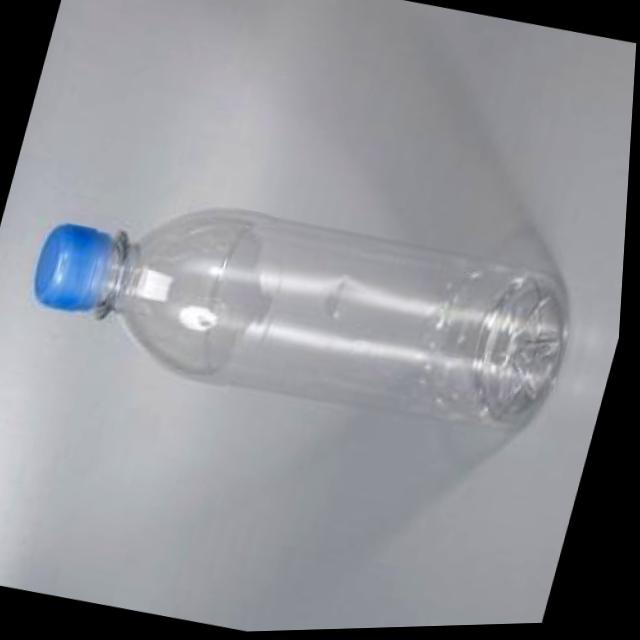anorganik: (2, 114, 606, 494)
